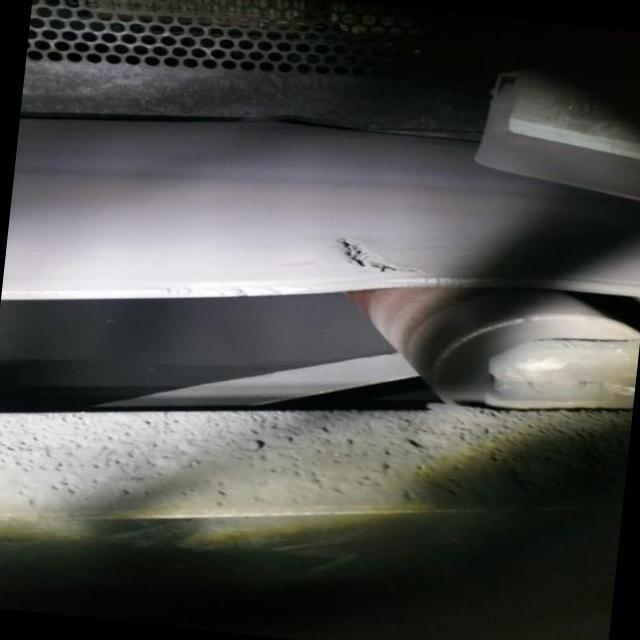Tear: (328, 232, 430, 278)
